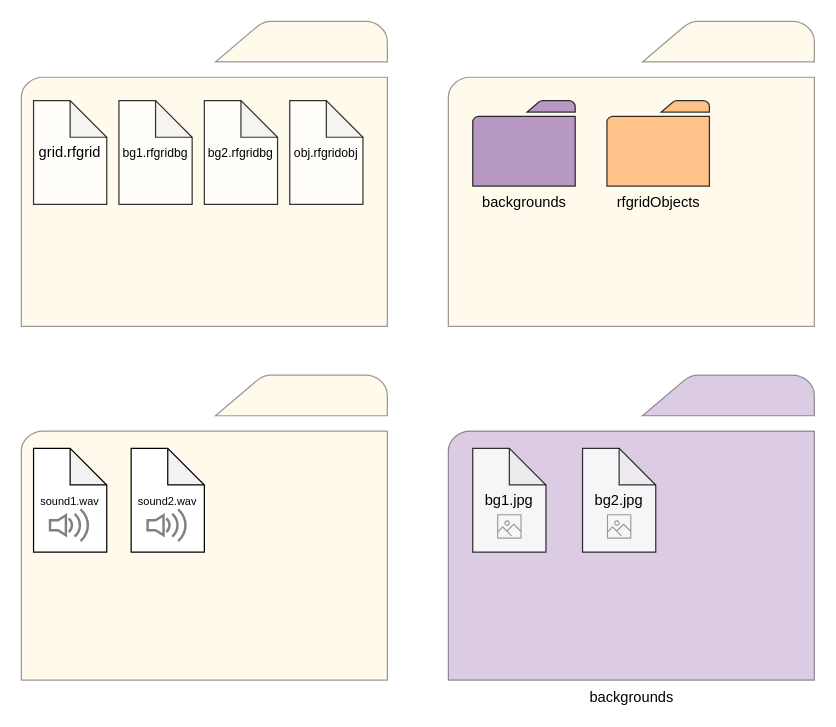
Some shapes in this 836 by 727 pixel diagram are drawn without their labels. The shapes that lost their labels are listed below. From the top down, each one's box as (x1, y1, x2, y2) in pixels, then its label:
(20, 20, 387, 326): configs
(447, 20, 814, 326): images
(20, 374, 387, 680): sounds
